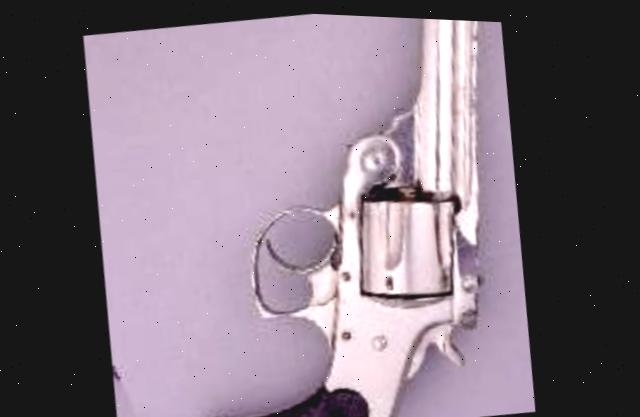pistol: (130, 5, 550, 417)
